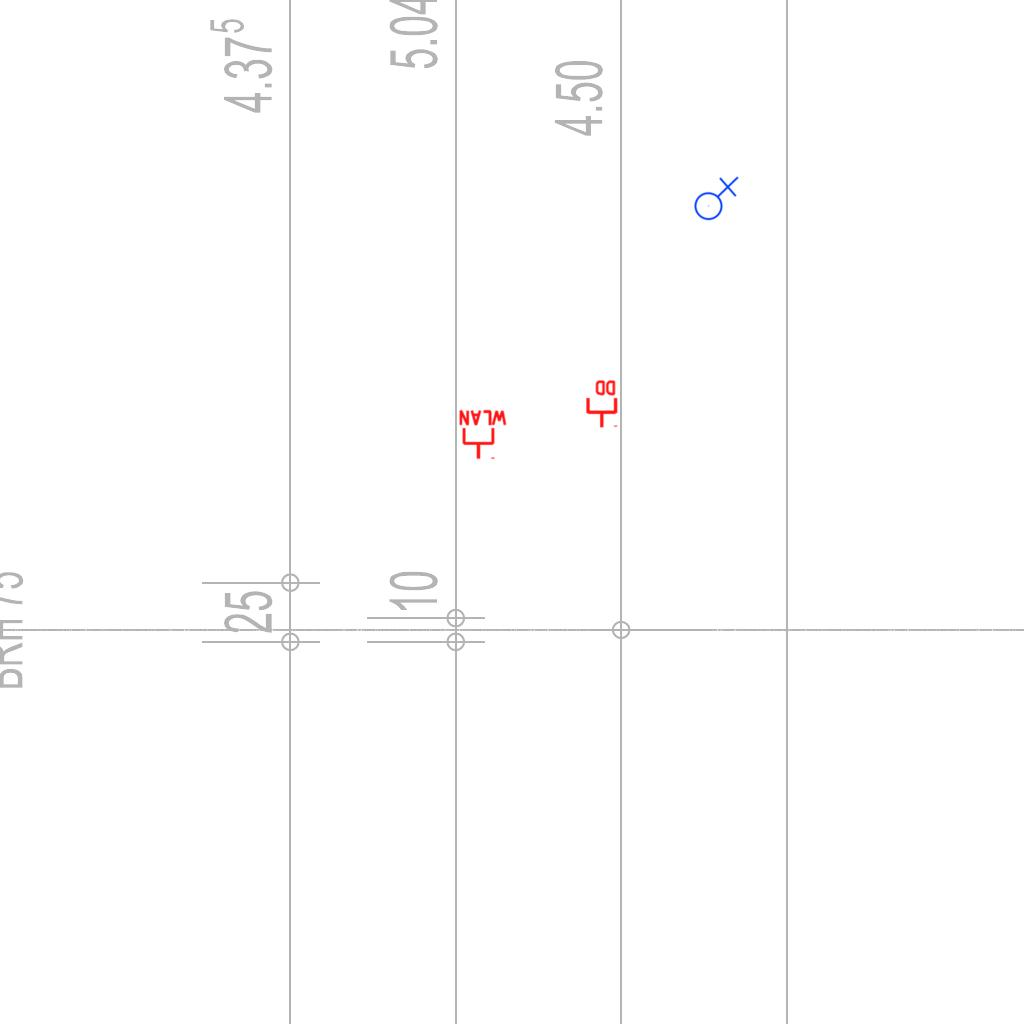Datenanschluss_zweifach: (584, 378, 618, 429)
Elektroanschluss_allgemein_230V_Geraeteanschlussdose_230V: (690, 174, 739, 221)
WLAN: (457, 409, 509, 461)
